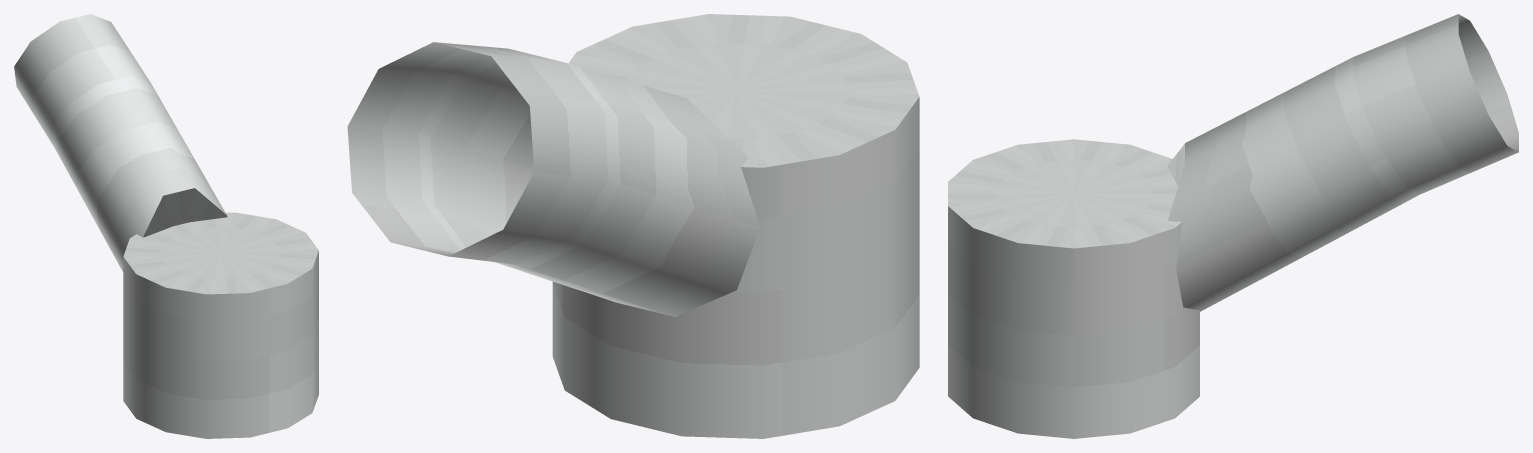
Rendered from nycsignalarm_regular6_c1_thin.obj.
3 views of the same model, side by side, from view 1: azimuth 30°, elevation 25°; view 2: azimuth 150°, elevation 25°; view 3: azimuth 270°, elevation 25° (orthographic). The views are drawn at different scales.
Visible parts, largest first — view 1: nycsignalarm_regular6_c1_thin; view 2: nycsignalarm_regular6_c1_thin; view 3: nycsignalarm_regular6_c1_thin.
Part boxes in pixels (<box>): nycsignalarm_regular6_c1_thin: <box>14,14,318,438</box>; nycsignalarm_regular6_c1_thin: <box>347,14,919,438</box>; nycsignalarm_regular6_c1_thin: <box>948,14,1518,438</box>.
Size of the model in its own units: 0.5688 by 0.8753 by 1.26.
